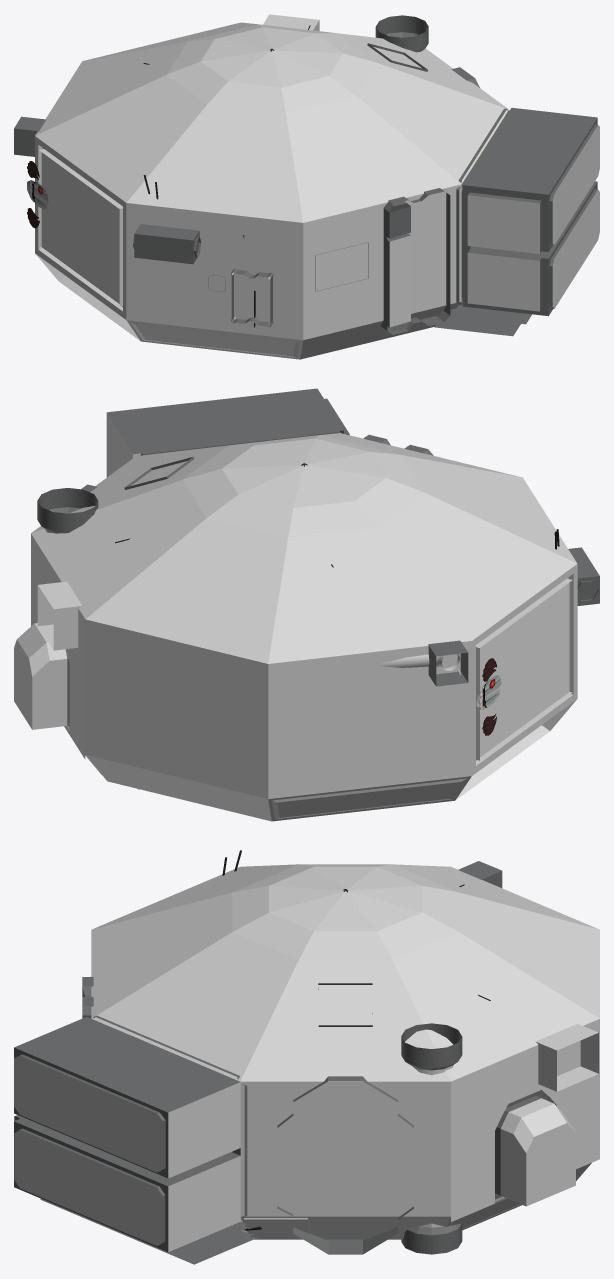
The model's file is gamejam.2025.22.fbx.
3 renders of one model, top to bottom at view 1: azimuth 30°, elevation 25°; view 2: azimuth 150°, elevation 25°; view 3: azimuth 270°, elevation 25°, orthographic. The views are drawn at different scales.
Parts seen in each view (by area): view 1: main room, electrics wall, bunk bed, windows bed, main window, lockers, bunk bed steps, airconditioning, oxygen pipe, bunk bed edge, control panel, fuse box; view 2: main room, bunk bed, main window, trash shute, airconditioning, oxygen pipe, control panel, electrics wall, pipe vent, bunk bed edge; view 3: main room, bunk bed, trash shute, oxygen pipe, airconditioning, door edge, bunk bed steps, bunk bed edge.
Boxes of the visible parts, x1,y1,x2,y2 form: main room: [35, 22, 509, 359]; electrics wall: [126, 203, 303, 340]; bunk bed: [462, 107, 599, 316]; windows bed: [467, 195, 539, 311]; main window: [41, 152, 119, 303]; lockers: [381, 188, 450, 334]; bunk bed steps: [434, 304, 531, 336]; airconditioning: [14, 14, 319, 156]; oxygen pipe: [375, 15, 428, 52]; bunk bed edge: [456, 108, 508, 304]; control panel: [35, 253, 140, 341]; fuse box: [231, 235, 273, 327]; main room: [31, 433, 577, 821]; bunk bed: [106, 388, 349, 477]; main window: [480, 582, 569, 757]; trash shute: [14, 534, 85, 759]; airconditioning: [37, 581, 468, 686]; oxygen pipe: [37, 488, 98, 533]; control panel: [455, 699, 576, 800]; electrics wall: [568, 547, 599, 605]; pipe vent: [374, 654, 460, 670]; bunk bed edge: [140, 430, 338, 455]; main room: [91, 864, 599, 1239]; bunk bed: [14, 1017, 240, 1252]; trash shute: [451, 1019, 599, 1221]; oxygen pipe: [401, 1023, 462, 1254]; airconditioning: [458, 861, 598, 1091]; door edge: [277, 1076, 413, 1254]; bunk bed steps: [40, 1199, 258, 1264]; bunk bed edge: [93, 1015, 247, 1216].
Bounding box in the file's own units: 2203 × 1053 × 2164.
